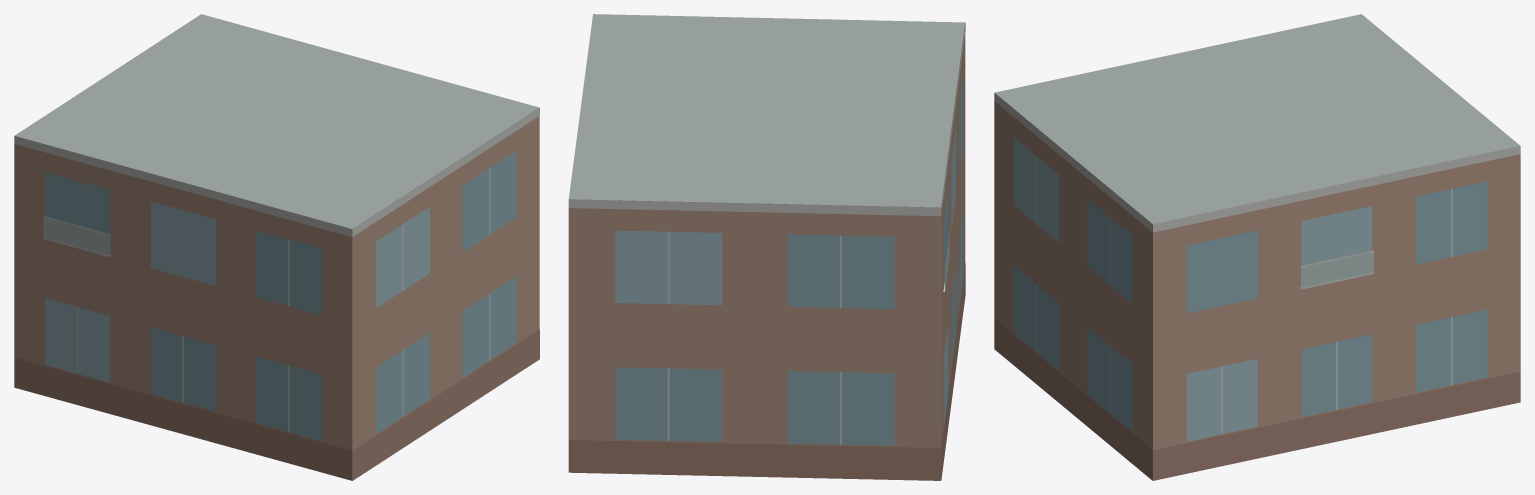
Rendered from survey-upis-32907303.glb.
3 views of the same model, side by side, from view 1: azimuth 30°, elevation 25°; view 2: azimuth 150°, elevation 25°; view 3: azimuth 270°, elevation 25° (orthographic). The views are drawn at different scales.
Parts seen in each view (by area): view 1: survey-upis-32907303.tmp; view 2: survey-upis-32907303.tmp; view 3: survey-upis-32907303.tmp.
Part boxes in pixels (x1,y1,x2,y2): survey-upis-32907303.tmp: (14,14,539,480); survey-upis-32907303.tmp: (568,14,965,480); survey-upis-32907303.tmp: (994,14,1520,480).
Bounding box in the file's own units: 13.37 × 7.6 × 14.14.
